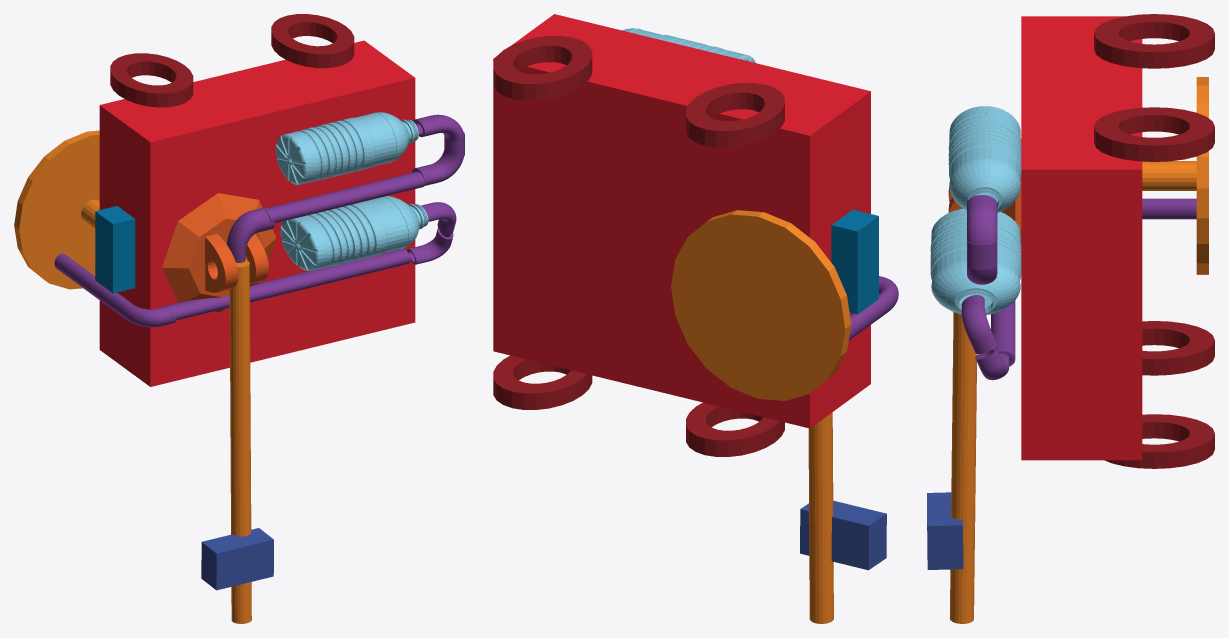
Rendered from tinker.obj.
The picture shows the model from 3 angles, left to right: view 1: azimuth 30°, elevation 25°; view 2: azimuth 150°, elevation 25°; view 3: azimuth 270°, elevation 25°; orthographic projection. The views are drawn at different scales.
Visible parts, largest first — view 1: group_0_15277357, group_0_16089887, group_0_8768998, group_0_8273816, group_0_14900002, group_0_9771553, group_0_3888547, group_0_30377; view 2: group_0_15277357, group_0_16089887, group_0_9771553, group_0_30377, group_0_3888547, group_0_8273816, group_0_8768998; view 3: group_0_15277357, group_0_9771553, group_0_8768998, group_0_16089887, group_0_8273816, group_0_3888547, group_0_14900002.
Part boxes in pixels (x1=…): group_0_15277357: x1=99, y1=40, x2=415, y2=386; group_0_16089887: x1=14, y1=130, x2=251, y2=623; group_0_8768998: x1=275, y1=112, x2=428, y2=270; group_0_8273816: x1=54, y1=114, x2=464, y2=327; group_0_14900002: x1=162, y1=193, x2=276, y2=312; group_0_9771553: x1=110, y1=14, x2=354, y2=107; group_0_3888547: x1=201, y1=528, x2=273, y2=590; group_0_30377: x1=95, y1=206, x2=135, y2=293; group_0_15277357: x1=493, y1=14, x2=870, y2=428; group_0_16089887: x1=671, y1=210, x2=851, y2=623; group_0_9771553: x1=493, y1=36, x2=784, y2=456; group_0_30377: x1=831, y1=209, x2=878, y2=314; group_0_3888547: x1=800, y1=500, x2=886, y2=570; group_0_8273816: x1=848, y1=276, x2=898, y2=340; group_0_8768998: x1=622, y1=28, x2=755, y2=62; group_0_15277357: x1=1021, y1=16, x2=1142, y2=460; group_0_9771553: x1=1094, y1=14, x2=1214, y2=468; group_0_8768998: x1=930, y1=106, x2=1021, y2=315; group_0_16089887: x1=949, y1=77, x2=1208, y2=623; group_0_8273816: x1=961, y1=195, x2=1196, y2=380; group_0_3888547: x1=927, y1=492, x2=963, y2=569; group_0_14900002: x1=948, y1=139, x2=1021, y2=244.
Bounding box in the file's own units: 80 × 106 × 47.59.
